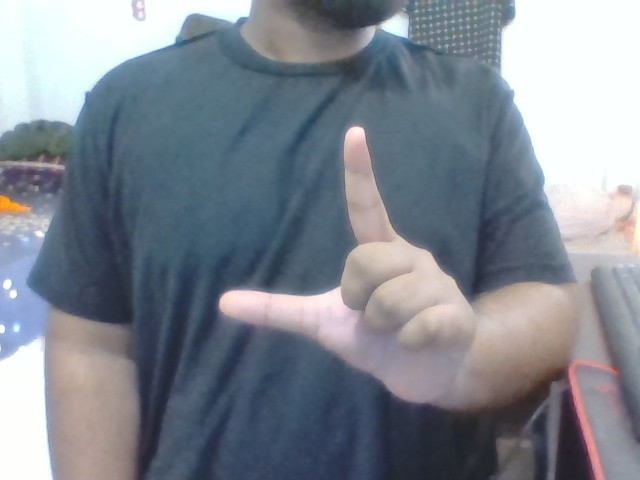L: (206, 118, 492, 405)
